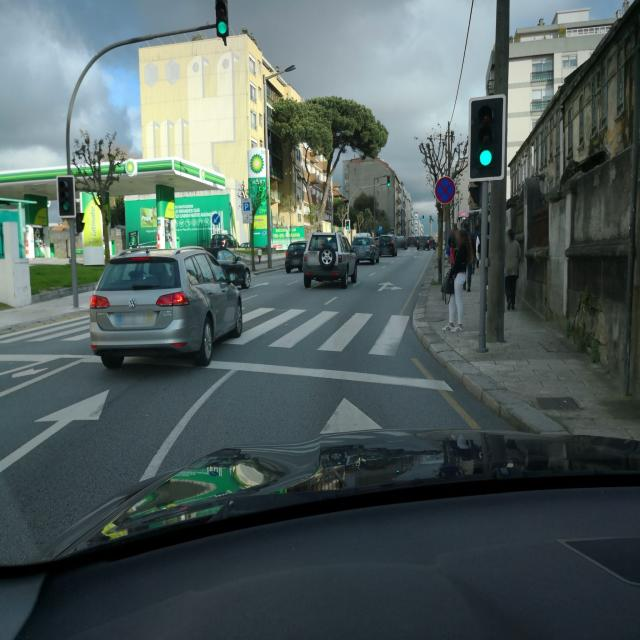car: (89, 244, 244, 369), (302, 231, 358, 289), (204, 246, 253, 290), (351, 234, 380, 264), (284, 239, 308, 273), (377, 234, 397, 256), (417, 235, 432, 251), (394, 235, 408, 250)
